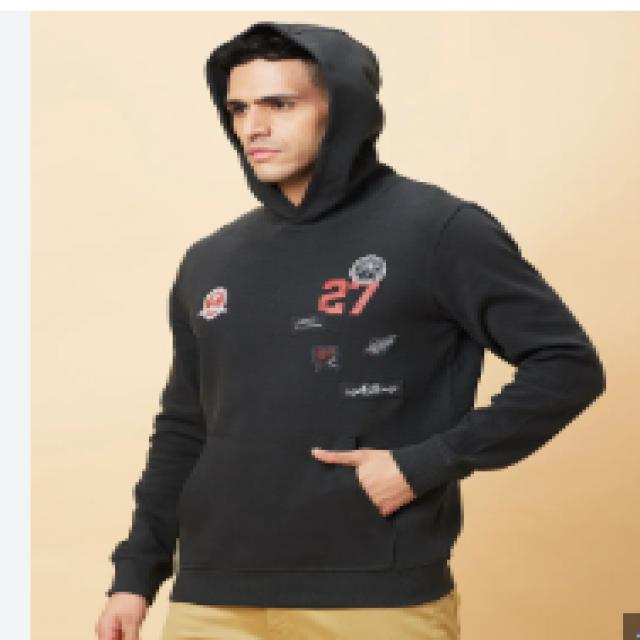4_capucha: (204, 20, 390, 224)
